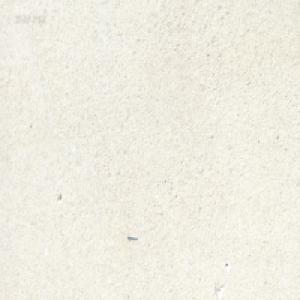Nail: (127, 232, 137, 240)
